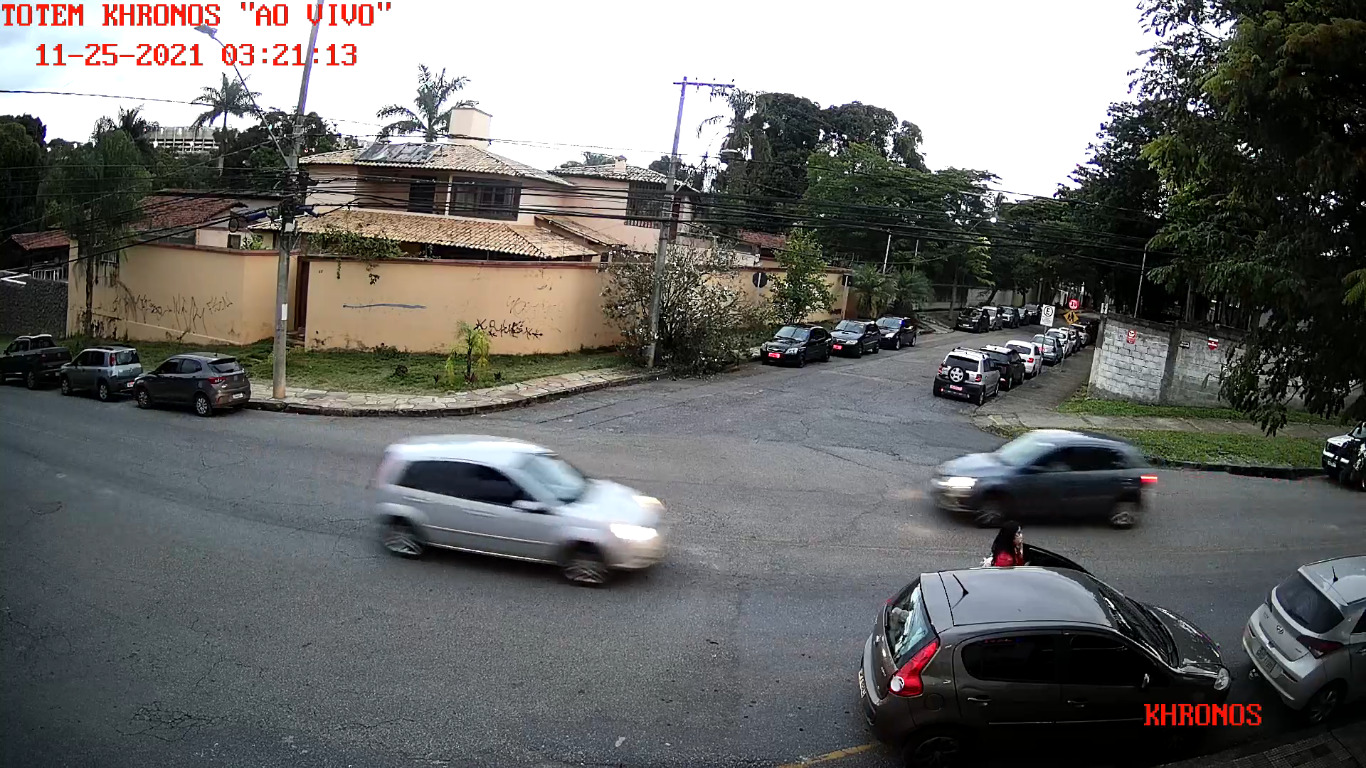car: (369, 426, 669, 585), (926, 423, 1159, 531), (133, 350, 253, 419), (56, 342, 144, 403), (1, 333, 74, 391), (932, 346, 1001, 406), (759, 322, 835, 369), (825, 317, 882, 358), (866, 315, 916, 350)
